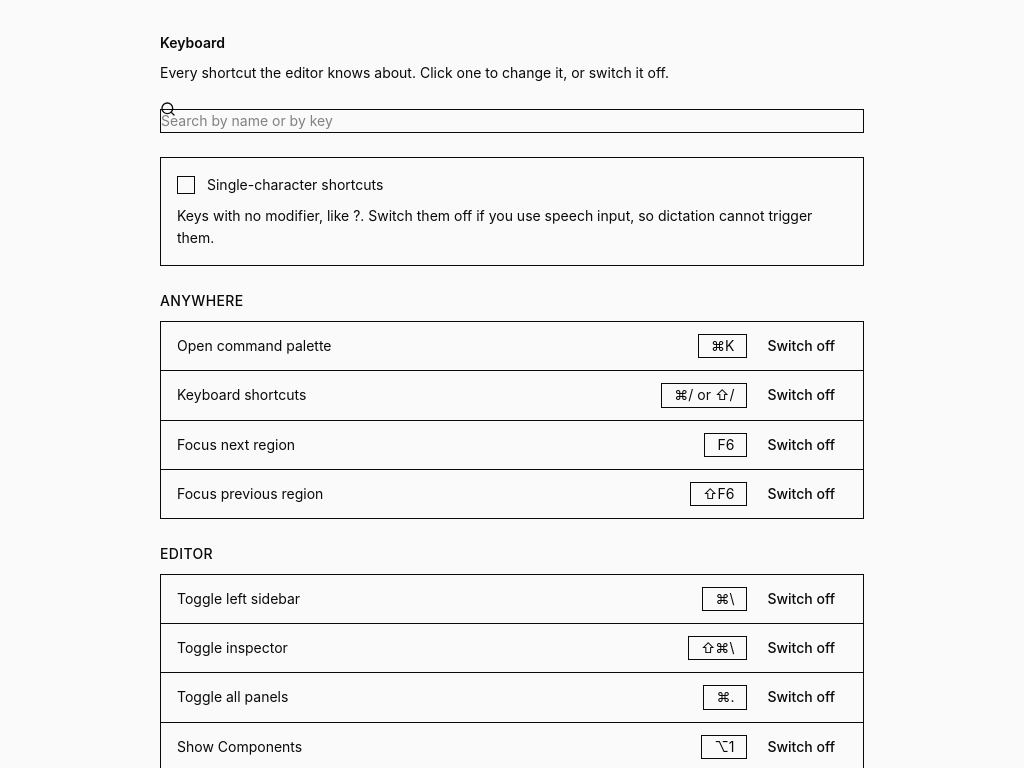
KeyboardSettings › the list › filters by name
Type "inspector" into the search field.
click(512, 121); type("inspector")  # box [160,109,864,133]
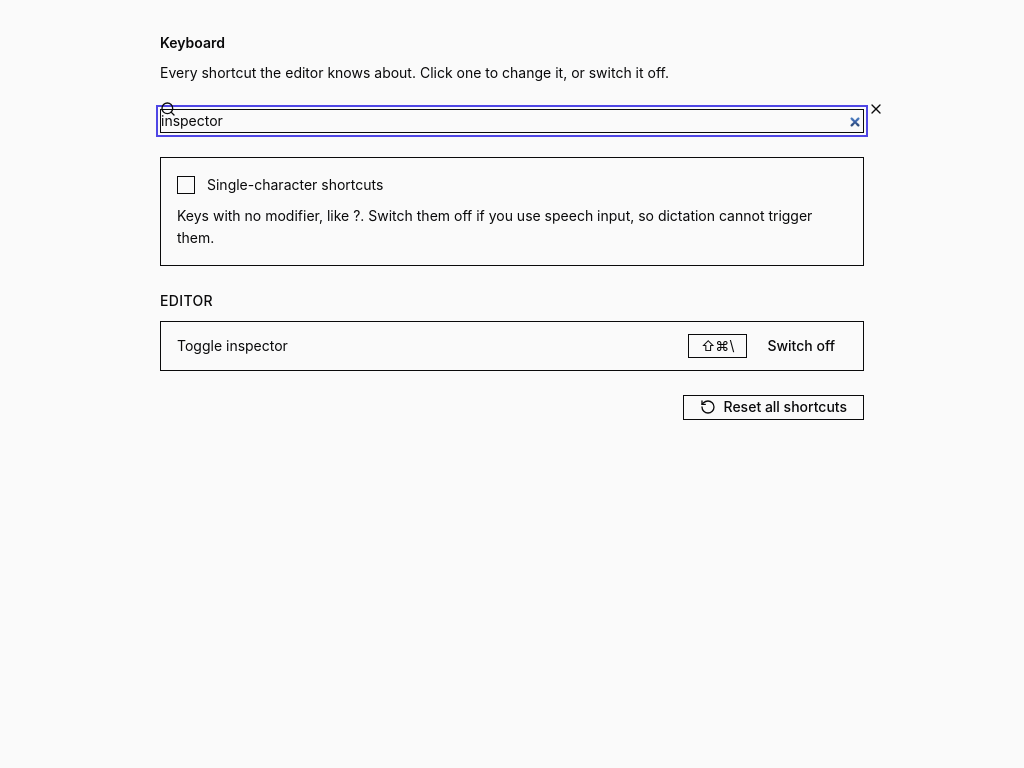
Expected: the number of list items is 1, [177,334,847,358]
